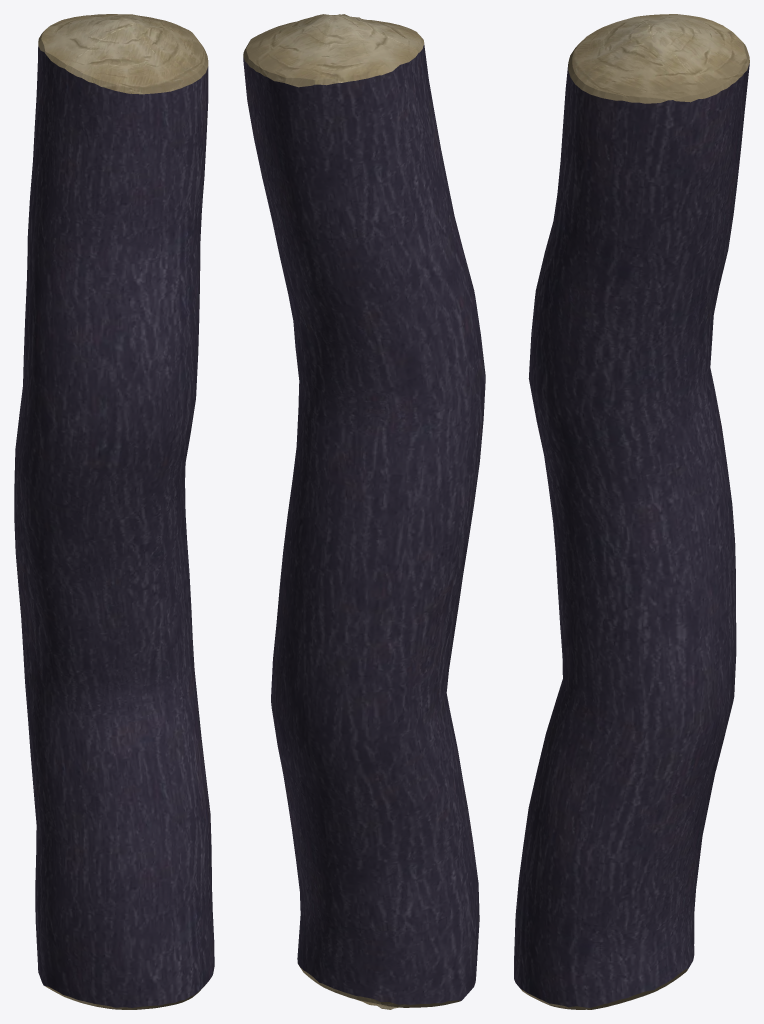
3 renders of one model, left to right at view 1: azimuth 30°, elevation 25°; view 2: azimuth 150°, elevation 25°; view 3: azimuth 270°, elevation 25°, orthographic. The views are drawn at different scales.
Visible parts, largest first — view 1: SM_FH_Oak_Tree_02_half_mid_LOD0; view 2: SM_FH_Oak_Tree_02_half_mid_LOD0; view 3: SM_FH_Oak_Tree_02_half_mid_LOD0.
Boxes of the visible parts, <box> form: SM_FH_Oak_Tree_02_half_mid_LOD0: <box>14,14,214,1009</box>; SM_FH_Oak_Tree_02_half_mid_LOD0: <box>243,14,485,1009</box>; SM_FH_Oak_Tree_02_half_mid_LOD0: <box>514,14,749,1009</box>.
Bounding box in the file's own units: 1.13 × 5.48 × 1.19.
Materials: 1 (1 with a texture image).
